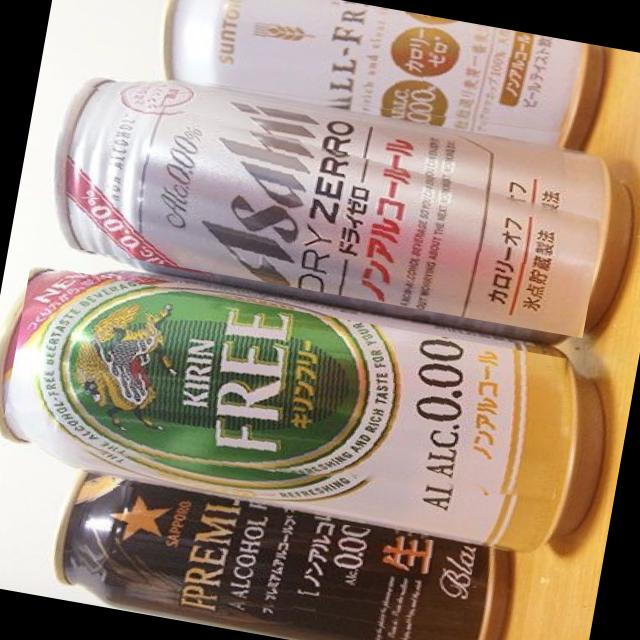Cans: (0, 262, 579, 538), (49, 82, 610, 337), (67, 478, 476, 640), (161, 0, 580, 147)
